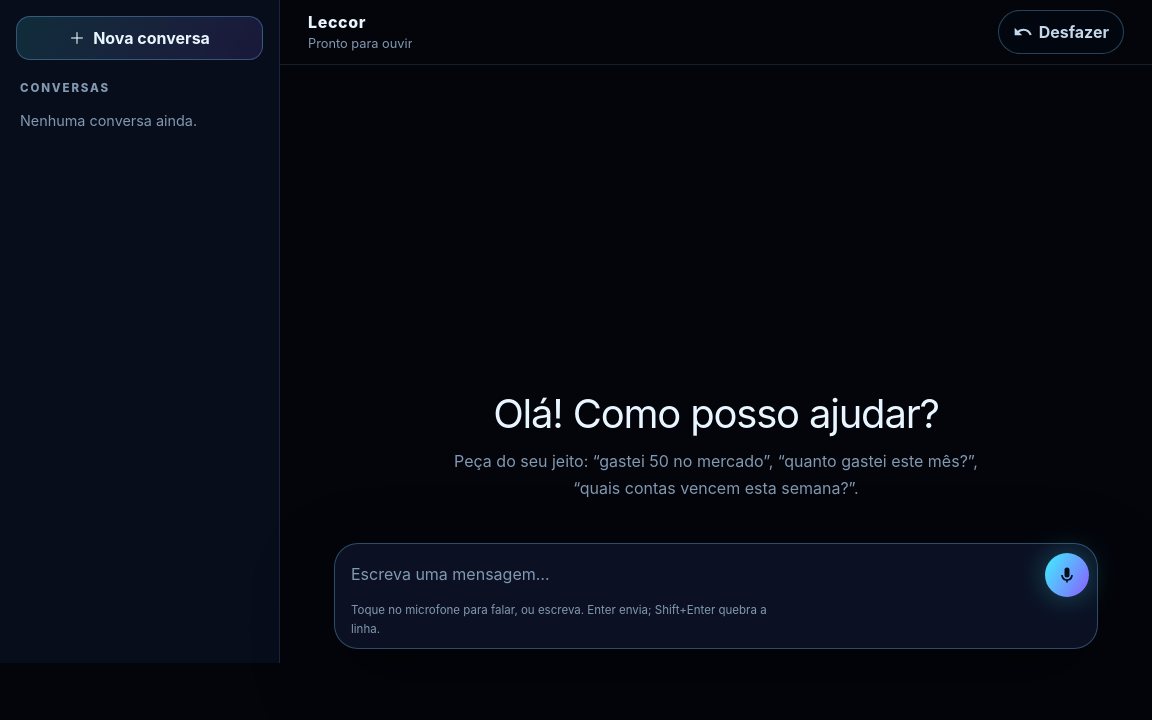
Test case: voice in the chat › falls back to text when the voice service is down (the audio is not kept)
The width and height of the screenshot is (1152, 720).
Click the button named "Falar" at (1067,575), box [1045,553,1089,597]
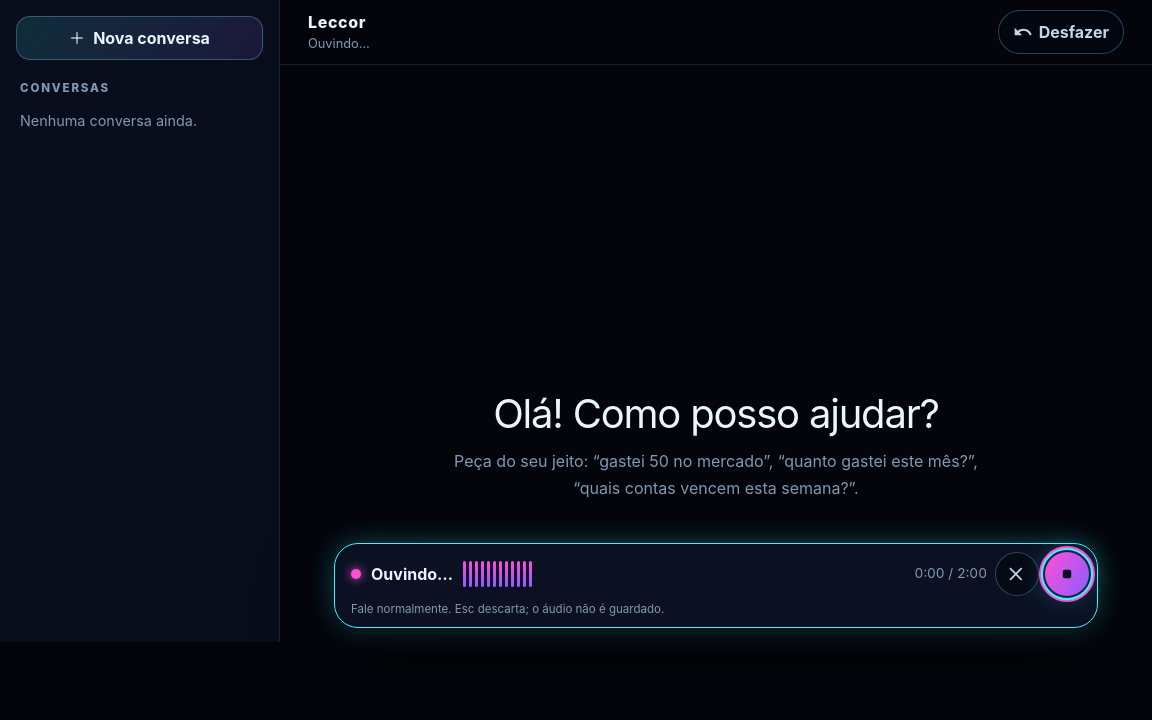
Click the button named "Parar e enviar" at (1067,574), box [1045,552,1089,596]
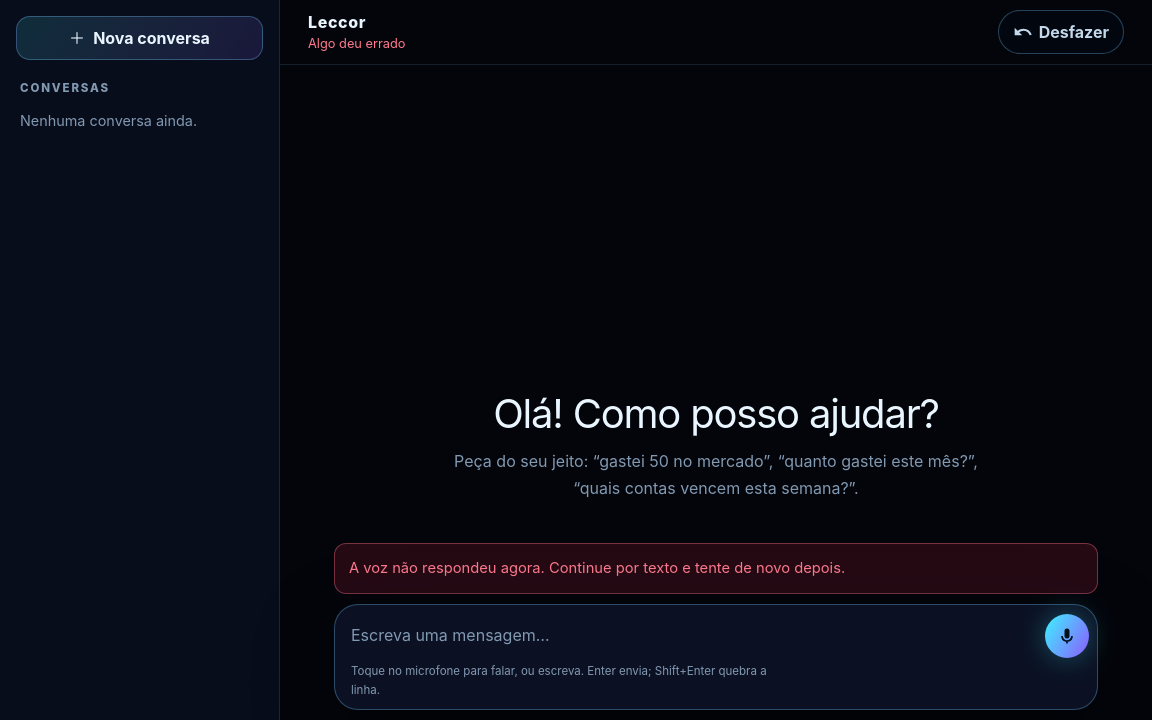
Expected: the button named "Falar" is enabled, [1045,614,1089,658]
Now the message "A voz não respondeu agora. Continue por texto e tente de novo depois." is shown, box [334,543,1098,594]
